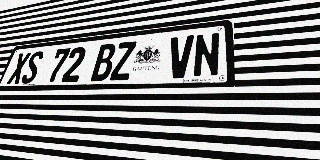2: (61, 46, 87, 82)
7: (45, 48, 71, 83)
B: (90, 43, 117, 81)
N: (192, 32, 220, 78)
S: (20, 51, 45, 84)
V: (167, 35, 194, 79)
X: (6, 52, 31, 84)
Z: (110, 41, 137, 81)
